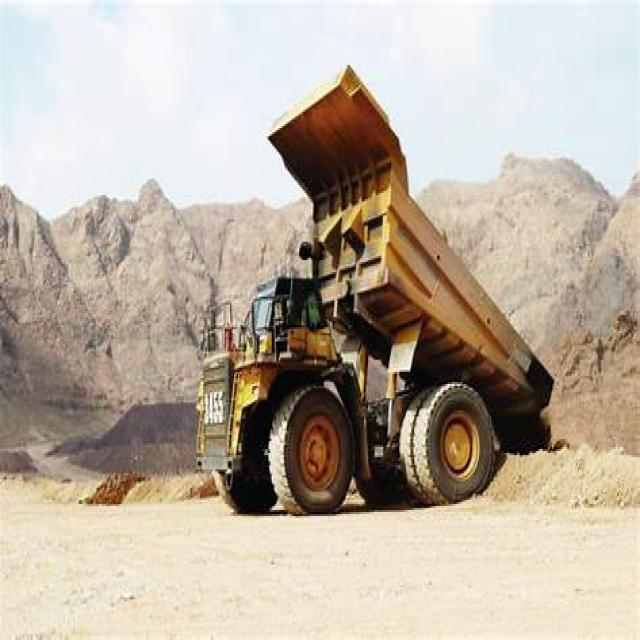dump_truck: (180, 55, 568, 514)
